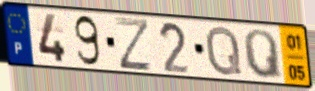2: (158, 21, 191, 75)
4: (37, 11, 68, 64)
9: (72, 13, 102, 67)
Q: (241, 28, 284, 82), (204, 23, 244, 78)
Z: (113, 15, 154, 73)
